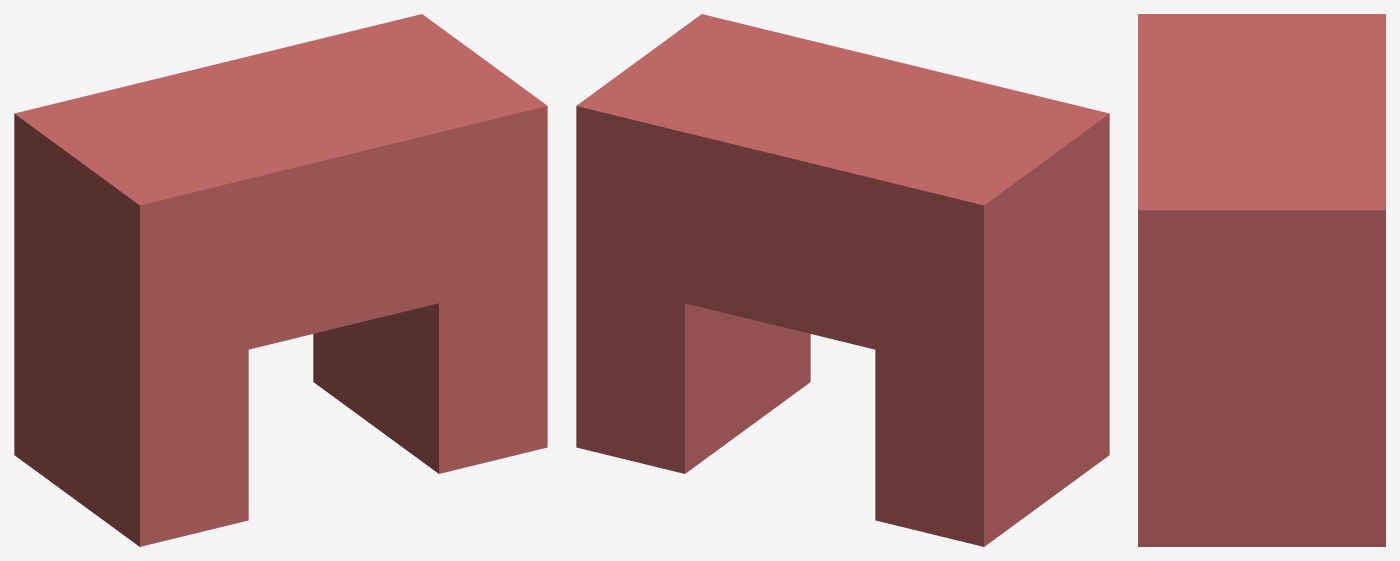
File: floor_001_arch_north_gate_central_structure_collision.glb
3 renders of one model, left to right at view 1: azimuth 30°, elevation 25°; view 2: azimuth 150°, elevation 25°; view 3: azimuth 270°, elevation 25°, orthographic.
Visible parts, largest first — view 1: floor_001_arch_north_gate_central_structure_collision_west_p, floor_001_arch_north_gate_central_structure_collision_east_p, floor_001_arch_north_gate_central_structure_collision_lintel; view 2: floor_001_arch_north_gate_central_structure_collision_west_p, floor_001_arch_north_gate_central_structure_collision_east_p, floor_001_arch_north_gate_central_structure_collision_lintel; view 3: floor_001_arch_north_gate_central_structure_collision_east_p, floor_001_arch_north_gate_central_structure_collision_lintel, floor_001_arch_north_gate_central_structure_collision_west_p.
Boxes of the visible parts, left/top/right/bottom form: floor_001_arch_north_gate_central_structure_collision_west_p: left=14, top=87, right=248, bottom=546; floor_001_arch_north_gate_central_structure_collision_east_p: left=313, top=14, right=547, bottom=473; floor_001_arch_north_gate_central_structure_collision_lintel: left=123, top=40, right=438, bottom=349; floor_001_arch_north_gate_central_structure_collision_west_p: left=875, top=87, right=1109, bottom=546; floor_001_arch_north_gate_central_structure_collision_east_p: left=576, top=14, right=810, bottom=473; floor_001_arch_north_gate_central_structure_collision_lintel: left=685, top=40, right=1000, bottom=349; floor_001_arch_north_gate_central_structure_collision_east_p: left=1138, top=158, right=1385, bottom=546; floor_001_arch_north_gate_central_structure_collision_lintel: left=1138, top=66, right=1385, bottom=157; floor_001_arch_north_gate_central_structure_collision_west_p: left=1138, top=14, right=1385, bottom=66.
Bounding box in the file's own units: 30 × 24 × 16.
